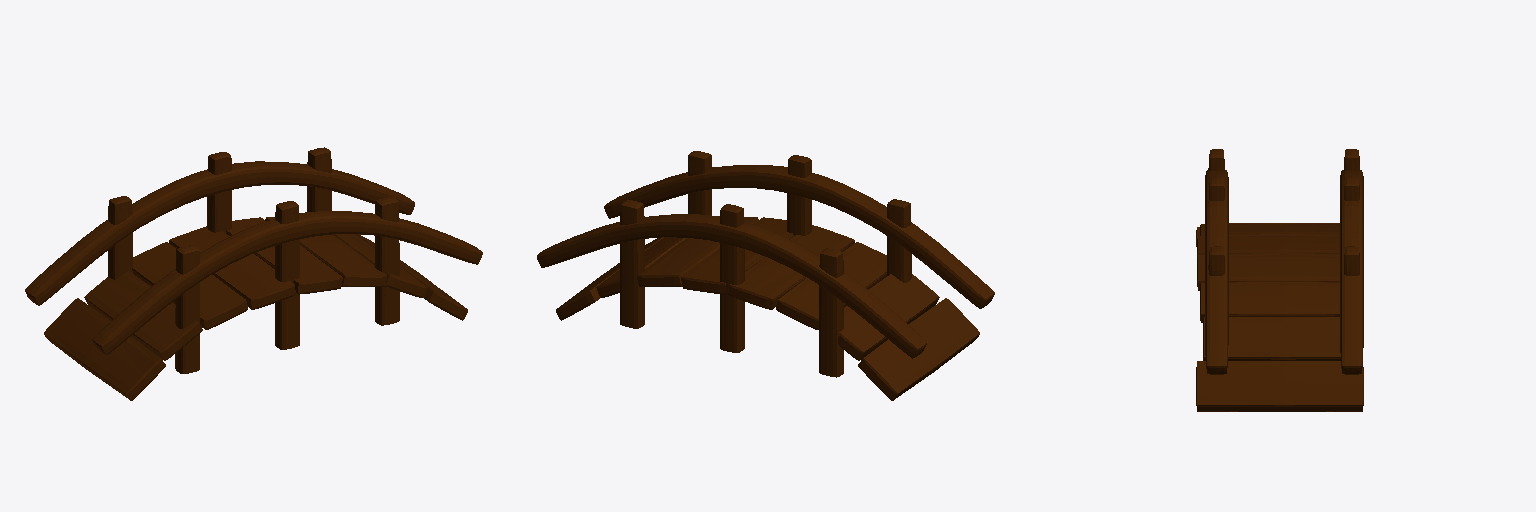
The model's file is Bridge_Small.obj.
The picture shows the model from 3 angles: view 1: azimuth 30°, elevation 25°; view 2: azimuth 150°, elevation 25°; view 3: azimuth 270°, elevation 25°; orthographic projection.
Parts seen in each view (by area): view 1: Bridge_Small_Cube.273; view 2: Bridge_Small_Cube.273; view 3: Bridge_Small_Cube.273.
Part boxes in pixels (bbox=[...]): Bridge_Small_Cube.273: bbox=[25, 147, 482, 400]; Bridge_Small_Cube.273: bbox=[537, 151, 994, 400]; Bridge_Small_Cube.273: bbox=[1196, 149, 1363, 411].
Size of the model in its own units: 6.94 by 2.62 by 2.64.